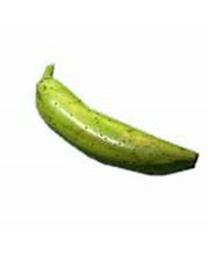banana: (34, 63, 200, 175)
